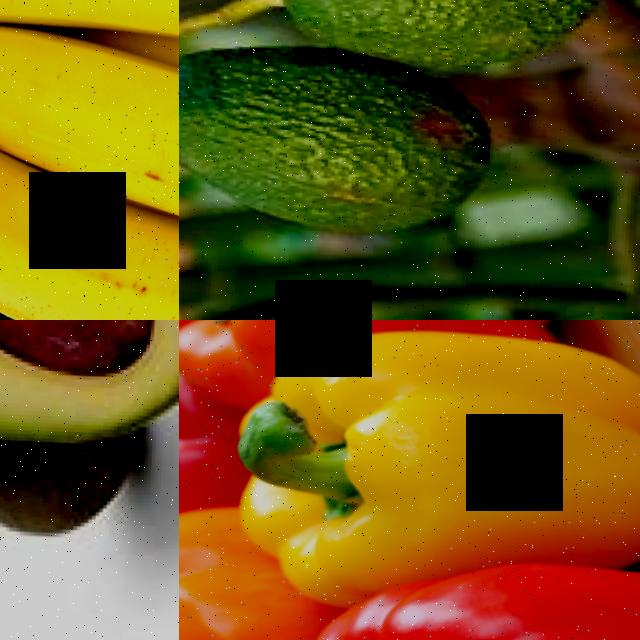avocado: (179, 42, 490, 253), (0, 320, 179, 480), (261, 0, 613, 80), (0, 426, 172, 566)
banana: (0, 0, 179, 320)
bell pepper: (247, 322, 640, 558), (327, 558, 640, 640), (179, 320, 566, 361), (179, 514, 254, 640), (179, 388, 211, 518)
